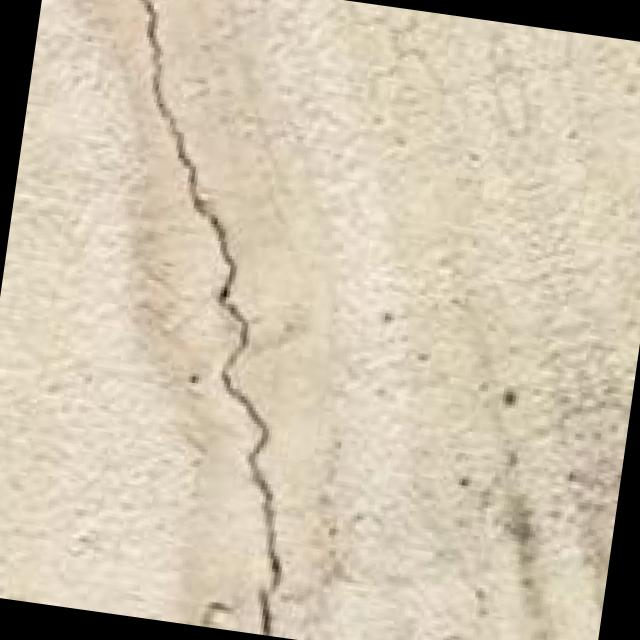crack: (34, 0, 405, 639)
